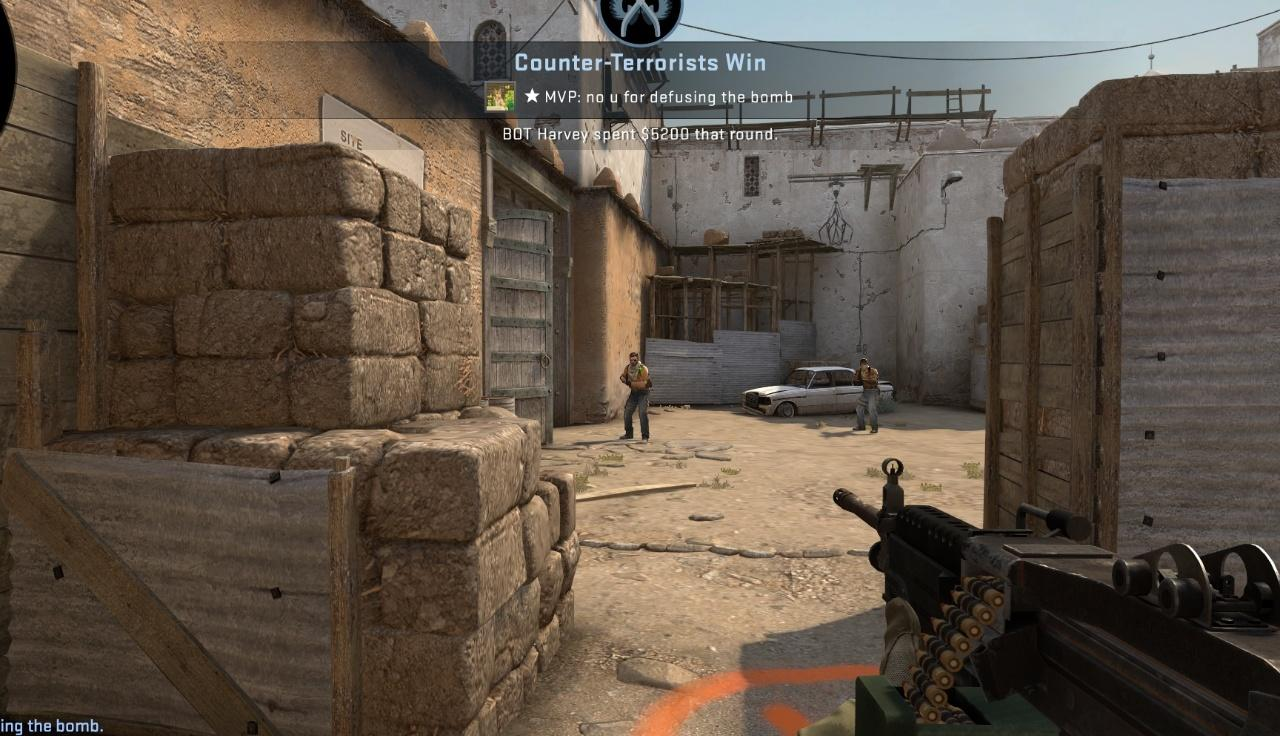rifle: (835, 460, 1280, 736)
tt: (621, 352, 651, 443), (852, 358, 879, 434)
tthead: (629, 353, 638, 366), (861, 359, 868, 369)
